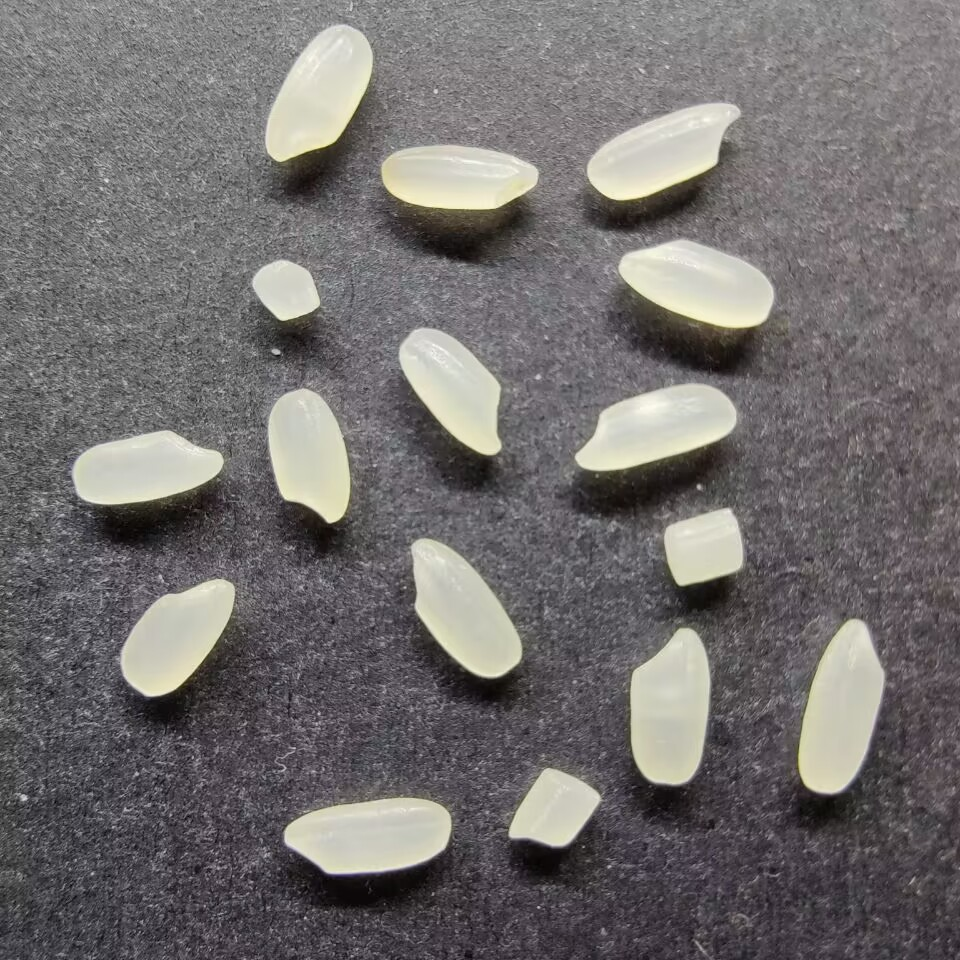broken: (505, 766, 602, 850), (662, 506, 744, 589), (250, 258, 322, 323)
rice: (408, 536, 524, 681), (797, 617, 887, 797), (585, 99, 741, 201), (263, 22, 373, 163), (573, 383, 738, 472), (118, 577, 237, 698), (397, 326, 506, 458), (618, 238, 774, 330), (281, 795, 451, 876), (627, 626, 710, 788), (70, 427, 223, 506), (266, 388, 351, 526), (380, 144, 540, 212)
